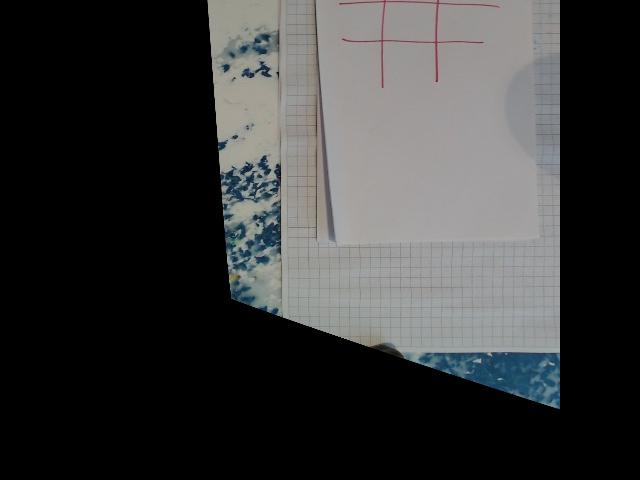grid: (337, 0, 495, 89)
